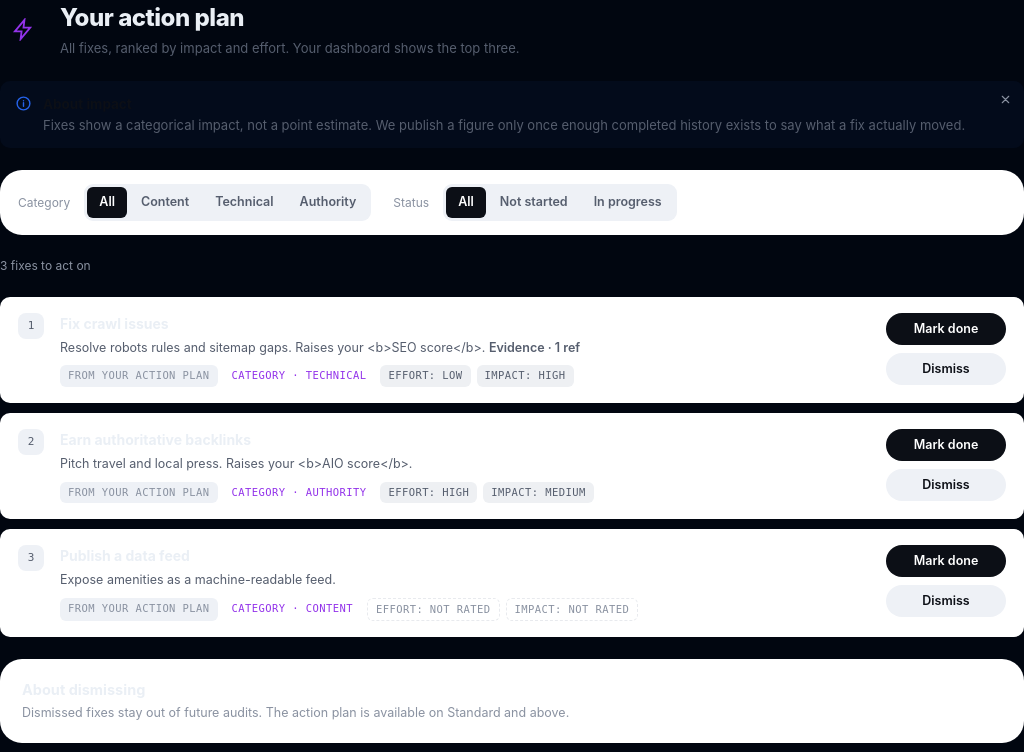
Test: fixes page › restores the card when dismiss fails
Click the button "Dismiss" in the row of "Impact: not rated" at (946, 601), box [886,585,1006,617]
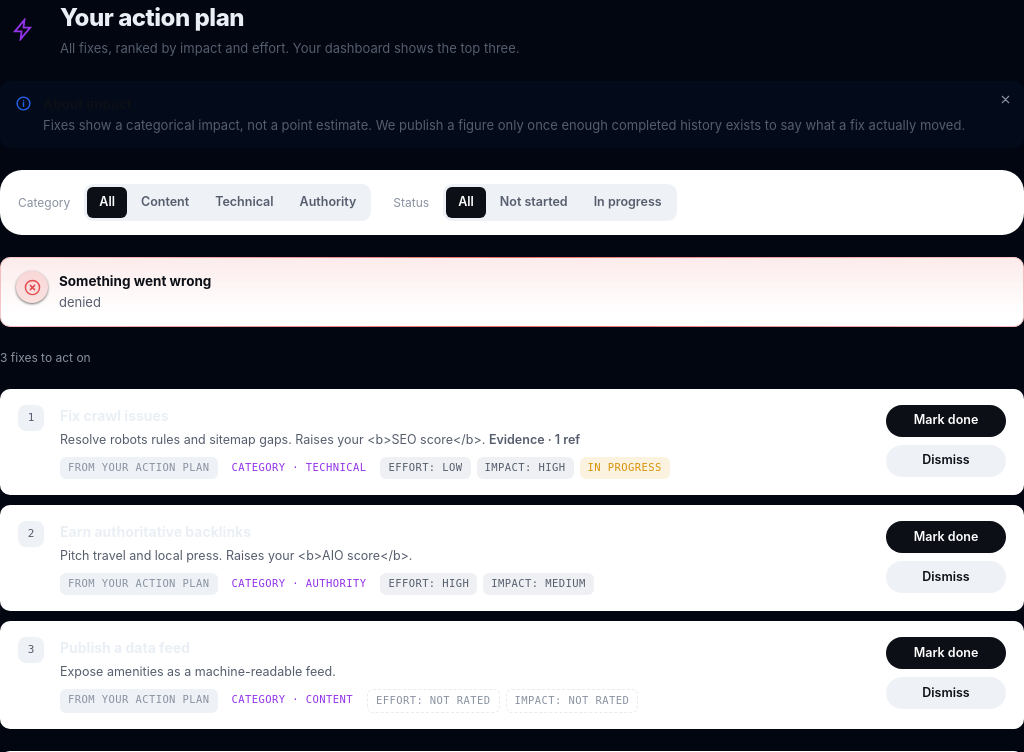
Check: the element with test id "fix-advisor-action-2" is shown, box [0,621,1023,729]
Check: the message shows "denied", box [59,294,101,310]
